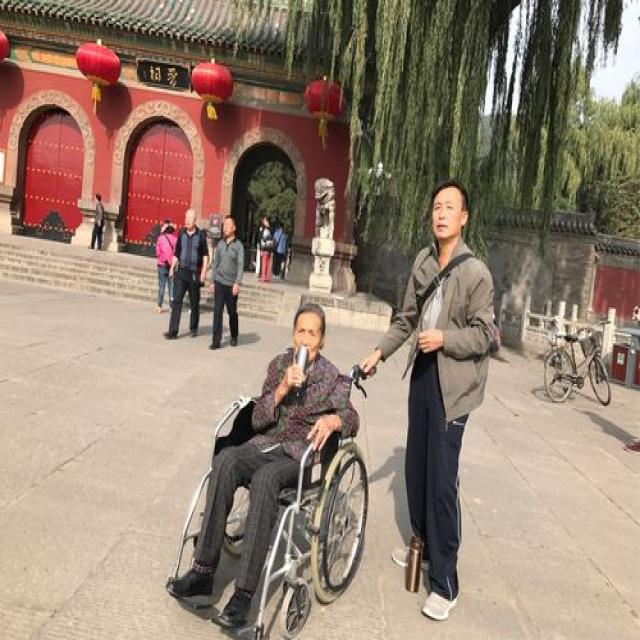wheelchairs: (165, 351, 386, 635)
